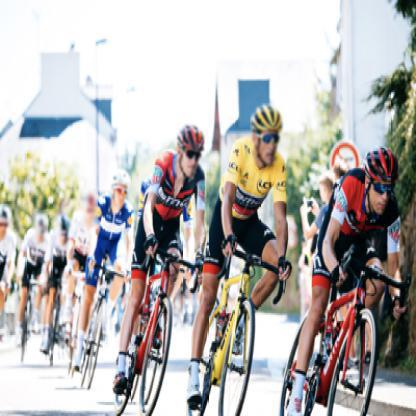Helmet: (252, 100, 284, 172), (363, 145, 395, 216), (175, 121, 209, 183), (111, 166, 131, 213), (79, 184, 96, 224), (32, 211, 50, 242), (56, 211, 70, 248), (1, 201, 8, 236)
